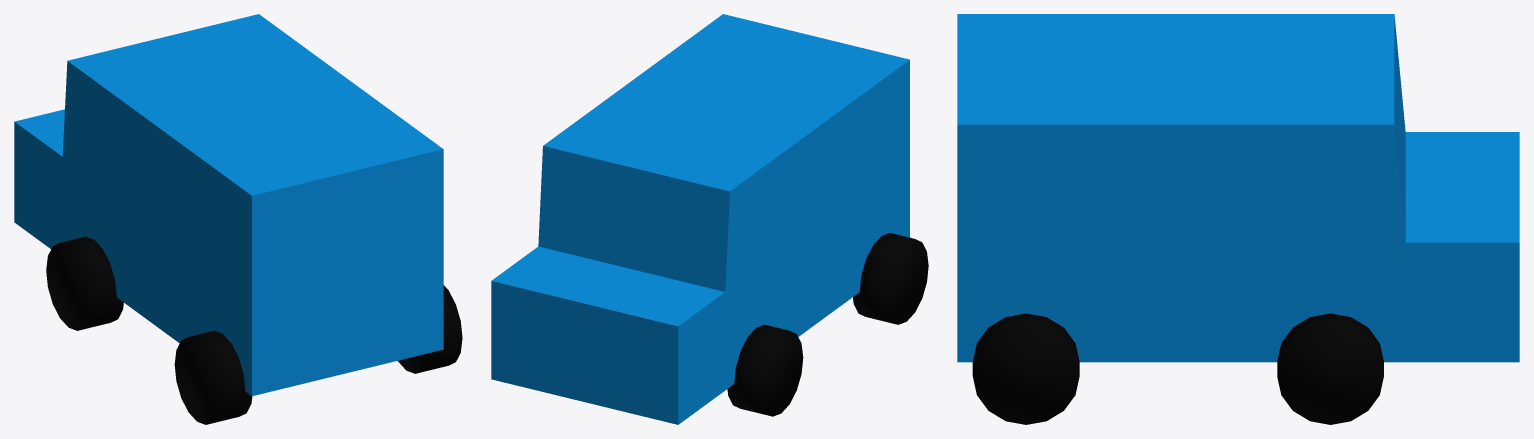
Rendered from Car.fbx.
3 views of the same model, side by side, from view 1: azimuth 30°, elevation 25°; view 2: azimuth 150°, elevation 25°; view 3: azimuth 270°, elevation 25° (orthographic). The views are drawn at different scales.
Parts seen in each view (by area): view 1: Cube.005, Cube.001; view 2: Cube.005, Cube.001; view 3: Cube.005, Cube.001.
Part boxes in pixels (x1,y1,x2,y2): Cube.005: (14, 14, 443, 396); Cube.001: (46, 236, 462, 424); Cube.005: (491, 14, 909, 424); Cube.001: (727, 233, 928, 416); Cube.005: (957, 14, 1519, 362); Cube.001: (972, 313, 1383, 424).
Size of the model in its own units: 254 by 240 by 430.
